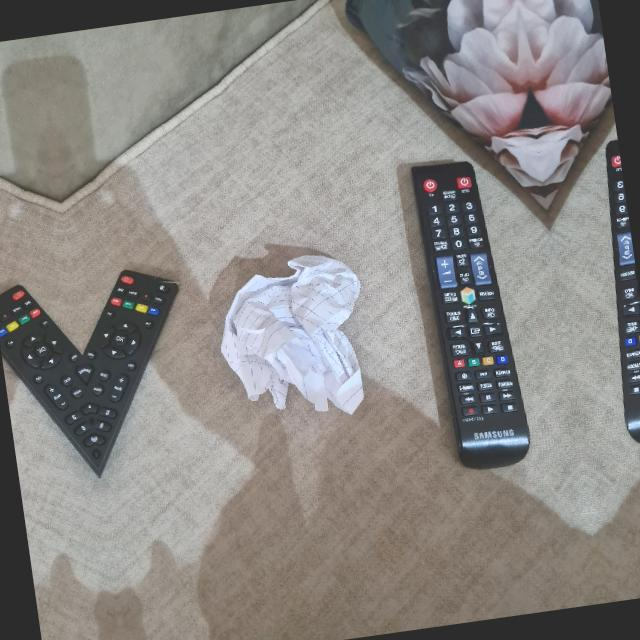paper: (213, 248, 380, 431)
